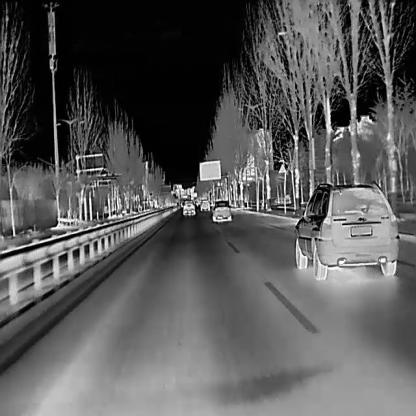car: (294, 178, 398, 280), (210, 199, 232, 221), (182, 199, 195, 215), (199, 199, 210, 210)
